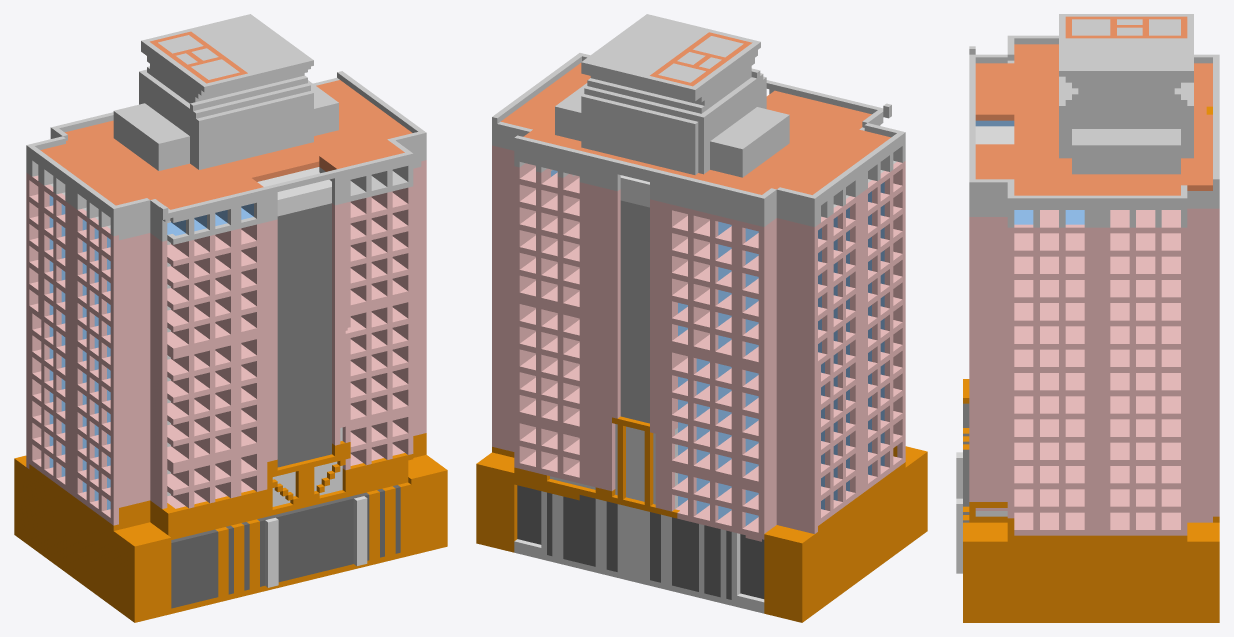
File: kentyou.glb
3 views of the same model, side by side, from view 1: azimuth 30°, elevation 25°; view 2: azimuth 150°, elevation 25°; view 3: azimuth 270°, elevation 25° (orthographic). The views are drawn at different scales.
Parts seen in each view (by area): view 1: Untitled; view 2: Untitled; view 3: Untitled.
Boxes of the visible parts, x1,y1,x2,y2 form: Untitled: (14,14,447,622); Untitled: (476,14,927,622); Untitled: (956,14,1219,622).
Size of the model in its own units: 1.2 by 1.74 by 0.82.
Materials: 1 (1 with a texture image).
